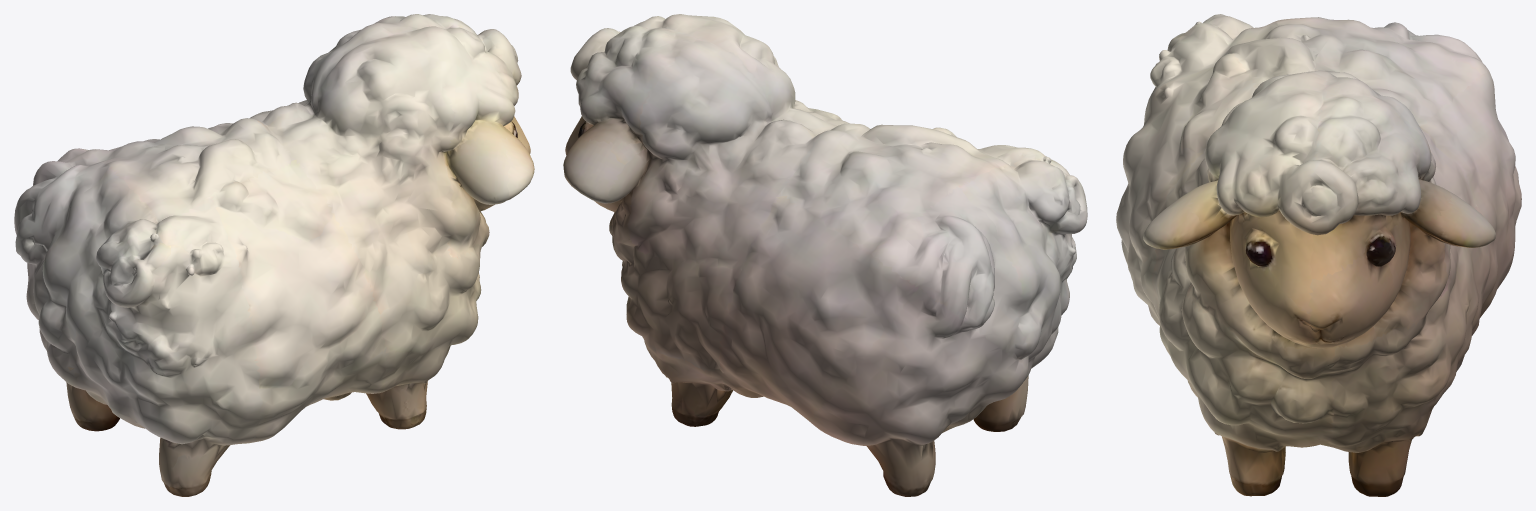
The model's file is sheep.glb.
3 views of the same model, side by side, from view 1: azimuth 30°, elevation 25°; view 2: azimuth 150°, elevation 25°; view 3: azimuth 270°, elevation 25° (orthographic). The views are drawn at different scales.
Parts seen in each view (by area): view 1: tripo_node_347858f8-4240-4589-bfc2-647853b04baf; view 2: tripo_node_347858f8-4240-4589-bfc2-647853b04baf; view 3: tripo_node_347858f8-4240-4589-bfc2-647853b04baf.
Boxes of the visible parts, x1,y1,x2,y2 form: tripo_node_347858f8-4240-4589-bfc2-647853b04baf: [14, 14, 534, 496]; tripo_node_347858f8-4240-4589-bfc2-647853b04baf: [563, 14, 1087, 496]; tripo_node_347858f8-4240-4589-bfc2-647853b04baf: [1116, 14, 1521, 496].
Bounding box in the file's own units: 1 × 0.7413 × 0.647.
1 material, 1 textured.
